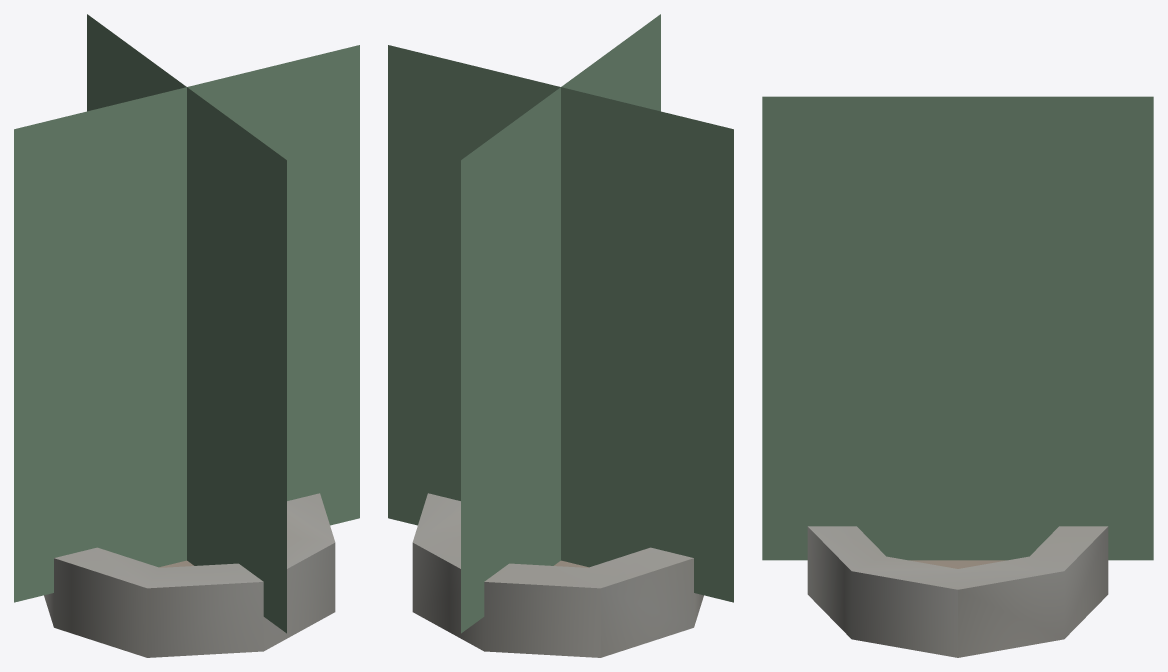
The model's file is tree-park-large.glb.
The picture shows the model from 3 angles, left to right: view 1: azimuth 30°, elevation 25°; view 2: azimuth 150°, elevation 25°; view 3: azimuth 270°, elevation 25°; orthographic projection. The views are drawn at different scales.
Visible parts, largest first — view 1: tree-park-large; view 2: tree-park-large; view 3: tree-park-large.
Part boxes in pixels (left/top/right/bottom): tree-park-large: left=14, top=14, right=359, bottom=657; tree-park-large: left=388, top=14, right=733, bottom=657; tree-park-large: left=762, top=96, right=1153, bottom=657.
Bounding box in the file's own units: 1.04 × 1.46 × 1.04.
